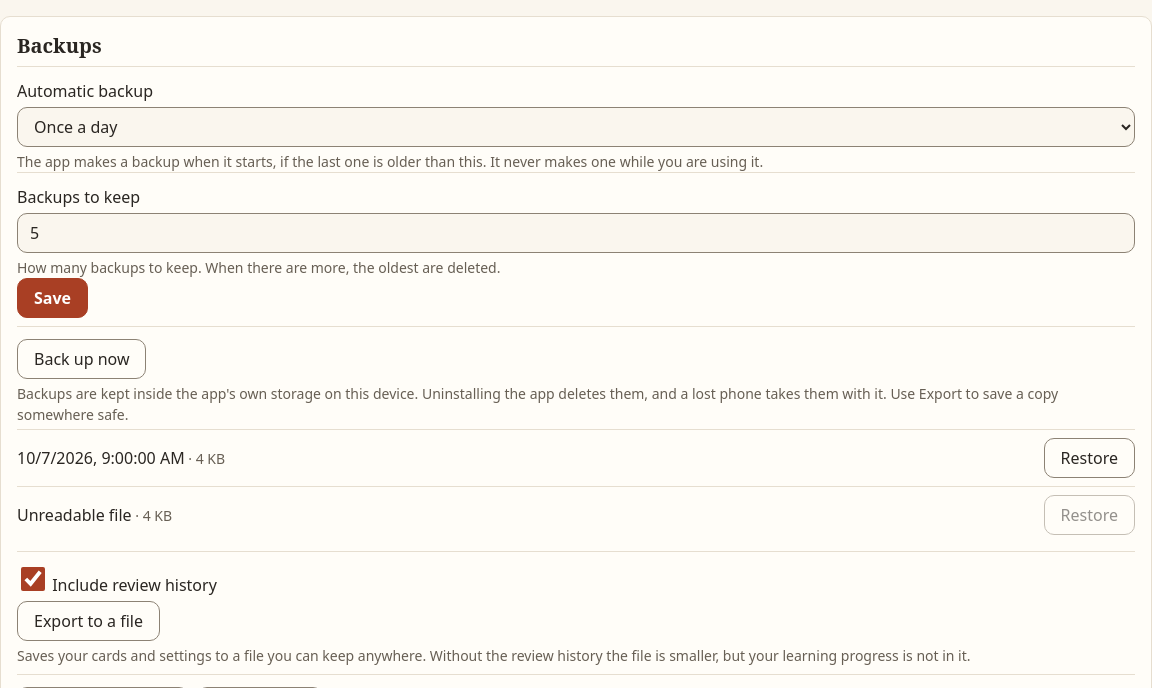
Test: Backups in Settings › saves the interval and how many to keep, and refuses a keep that is not a number
The image size is (1152, 688).
Select "Every 3 days" in the dropdown labelled "Automatic backup" at coordinates (576, 127), box 17,107 -> 1135,147
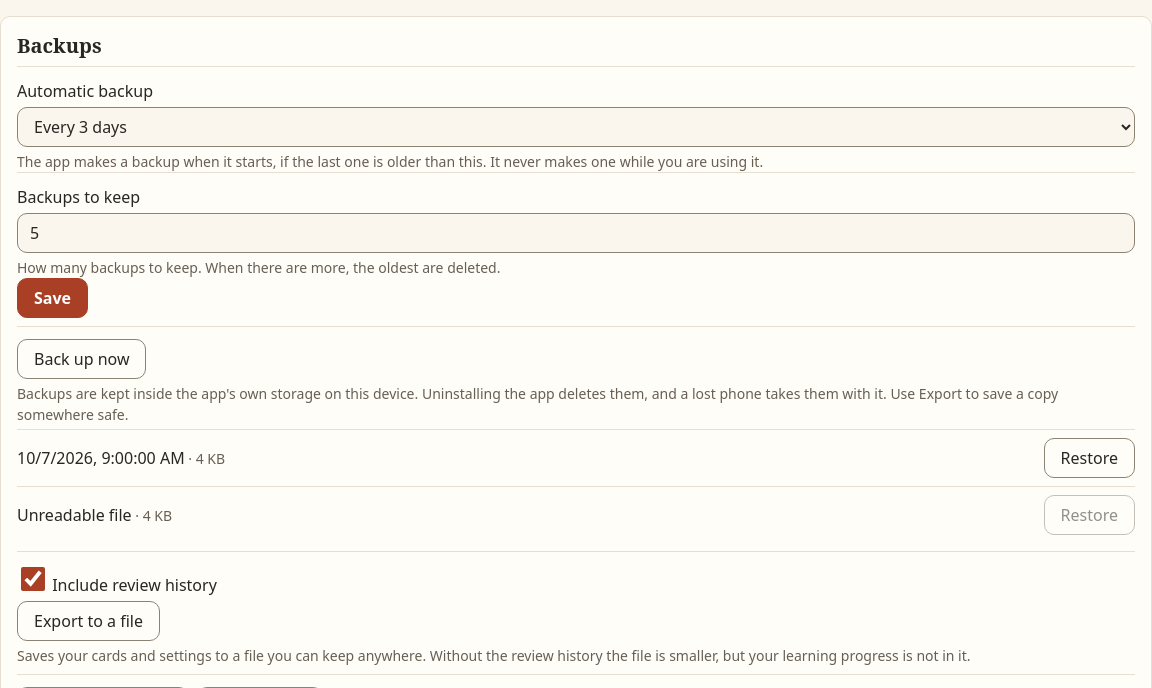
Replace the text in the field labelled "Backups to keep" with "0" at coordinates (576, 233), box 17,213 -> 1135,253
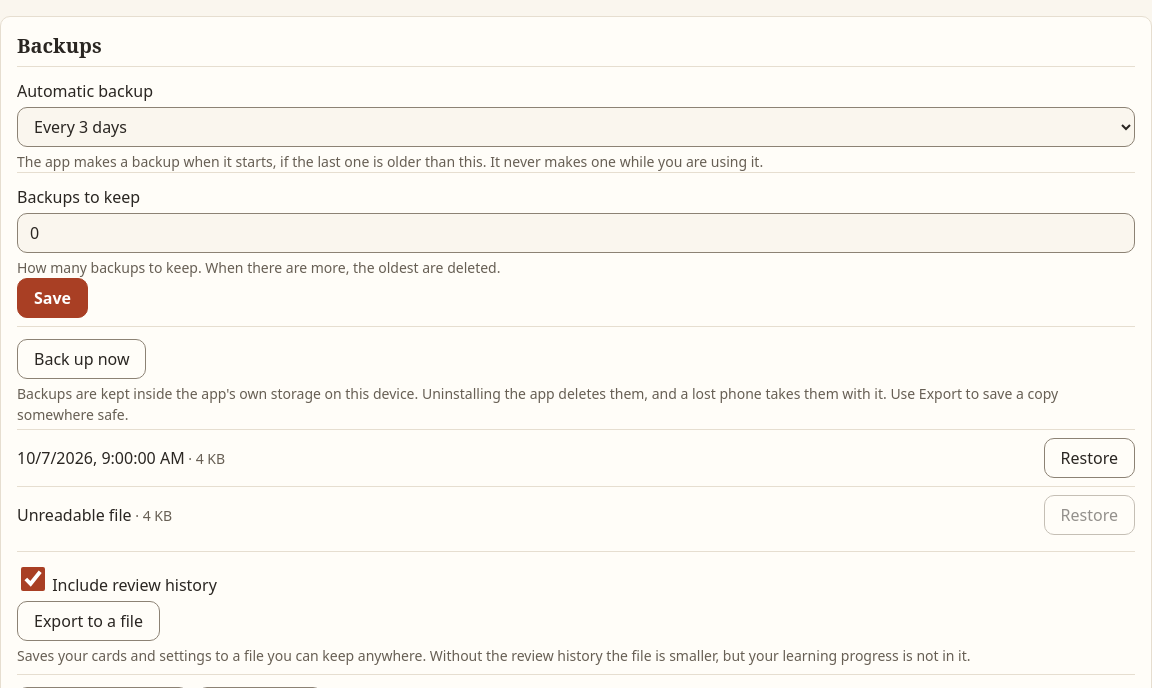
Click the button "Save" at coordinates (52, 298), box 17,278 -> 88,318
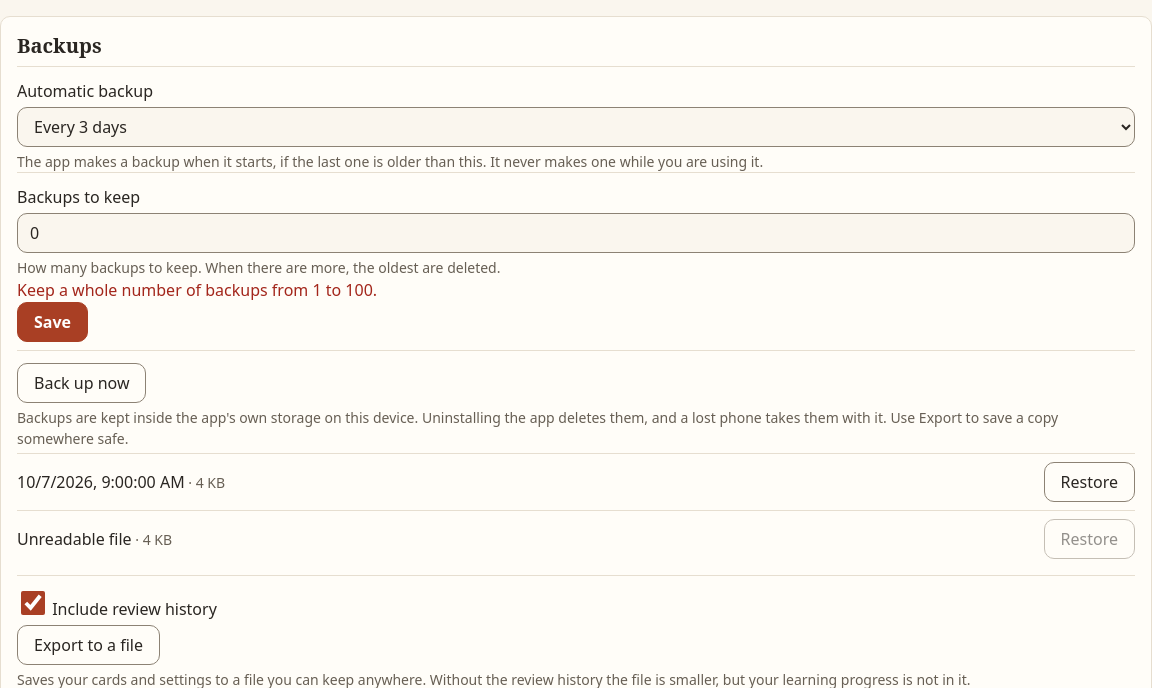
Now the message shows "1 to 100", box 17,279 -> 377,301
Replace the text in the field labelled "Backups to keep" with "3" at coordinates (576, 233), box 17,213 -> 1135,253
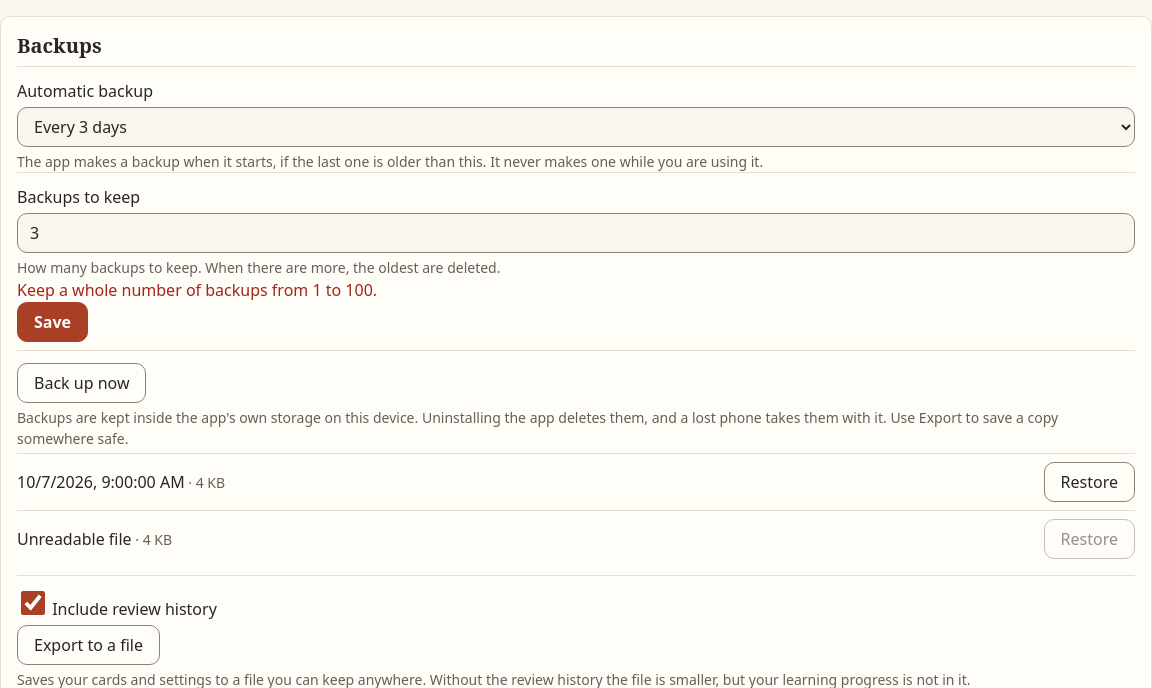
Click the button "Save" at coordinates (52, 322), box 17,302 -> 88,342
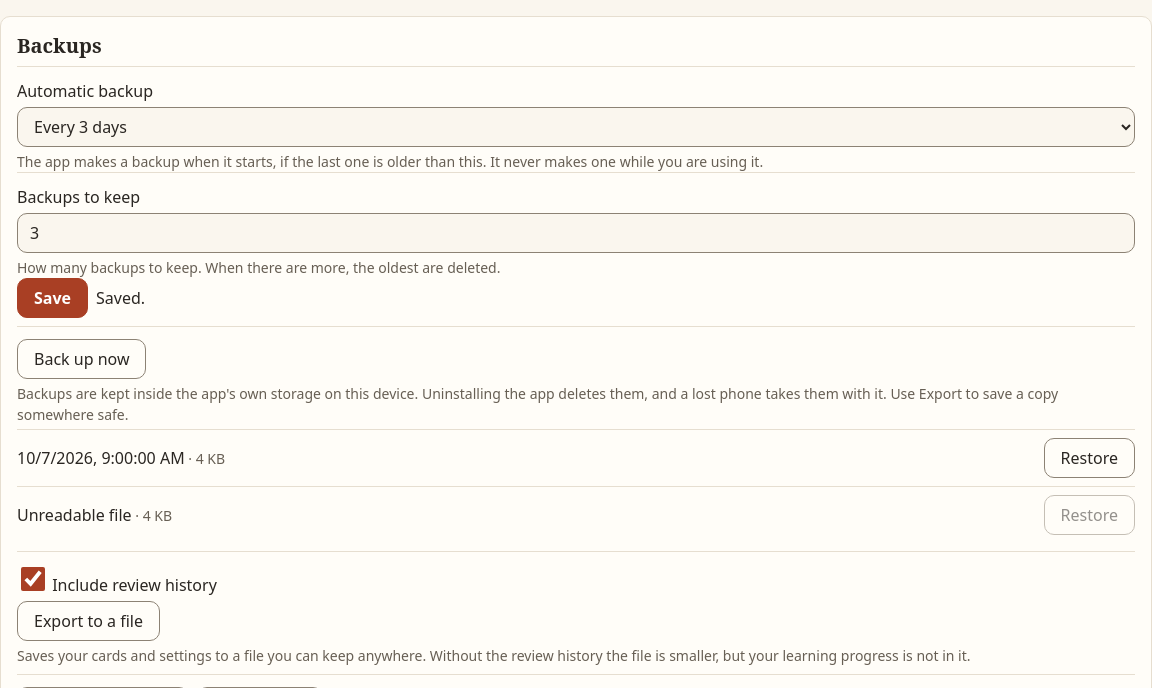
Now the text "Saved." is shown, box 96,286 -> 145,310
